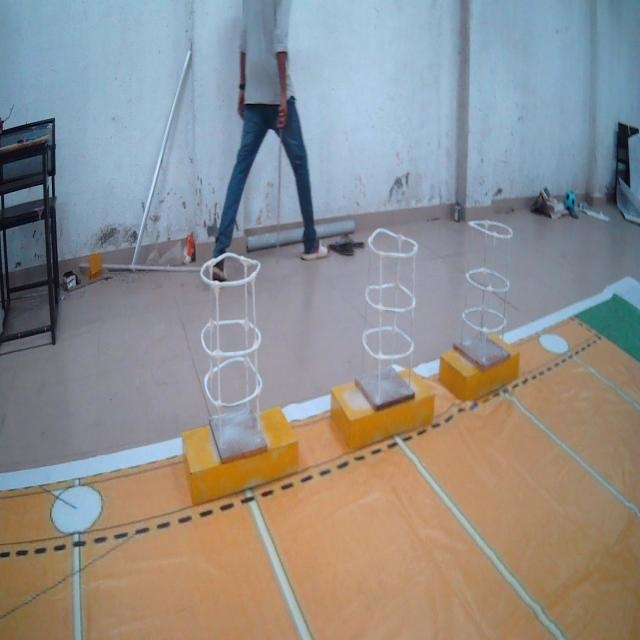silo: (194, 234, 276, 457), (352, 212, 427, 440), (453, 203, 518, 383)
